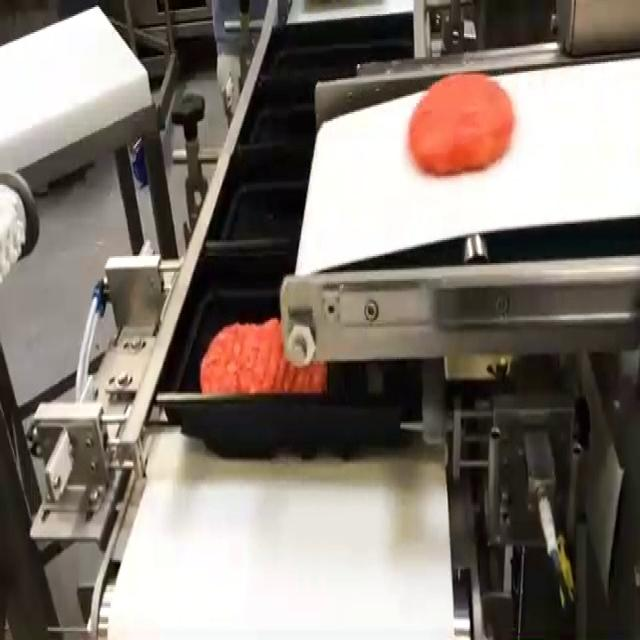hamburguer: (408, 73, 515, 174)
